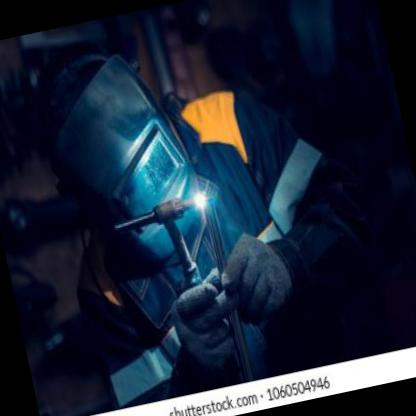Gloves: (210, 224, 300, 332), (162, 262, 251, 371)
